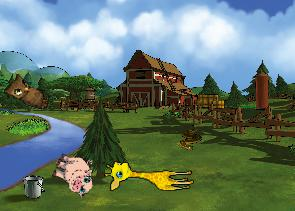giraffe: (104, 159, 194, 191)
owl: (2, 71, 54, 110)
pig: (47, 148, 100, 199)
